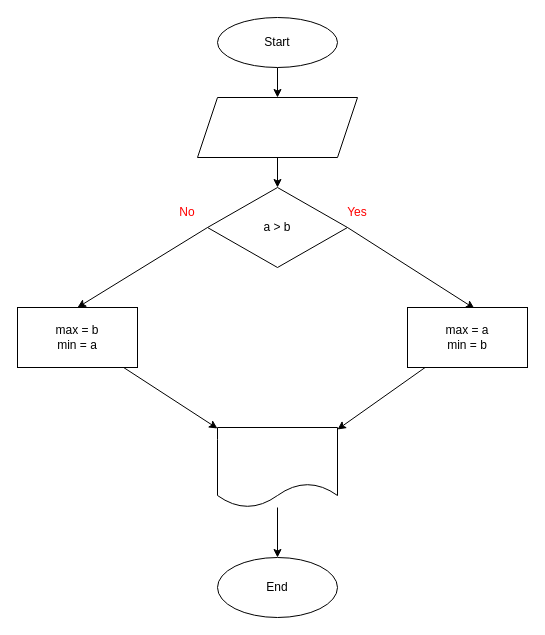
This 545x635 diagram has some shape labels left out. Each missing label, with the box of its shape:
a b max min: (196, 96, 358, 158)
print max, min: (216, 426, 338, 508)
